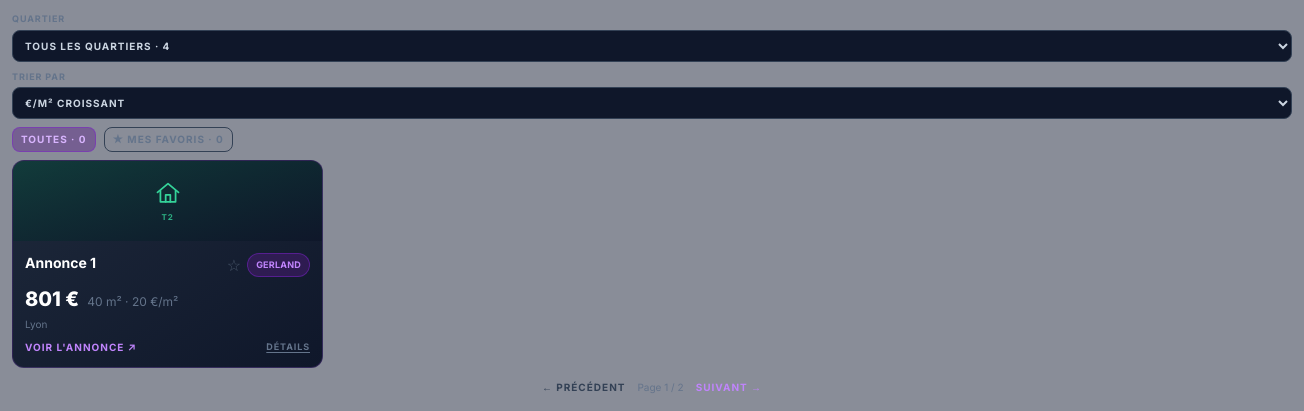
AnnoncesList › paginates to the next page on click
The width and height of the screenshot is (1304, 411).
Check: the text "Annonce 1" is shown, box [25,253,96,273]
Click the button "Suivant →": (729, 387) [696,380,762,394]
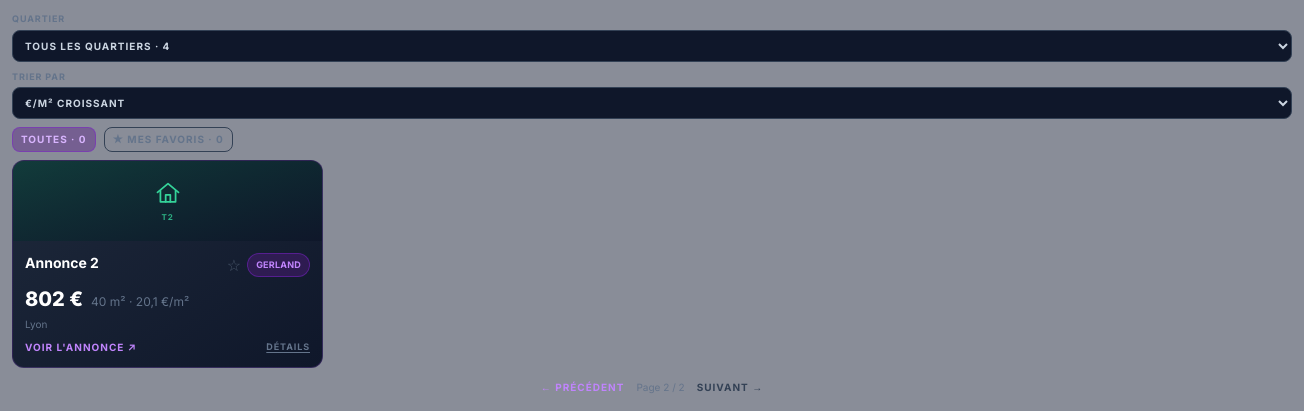
Check: the text "Annonce 2" is shown, box [25,253,99,273]
